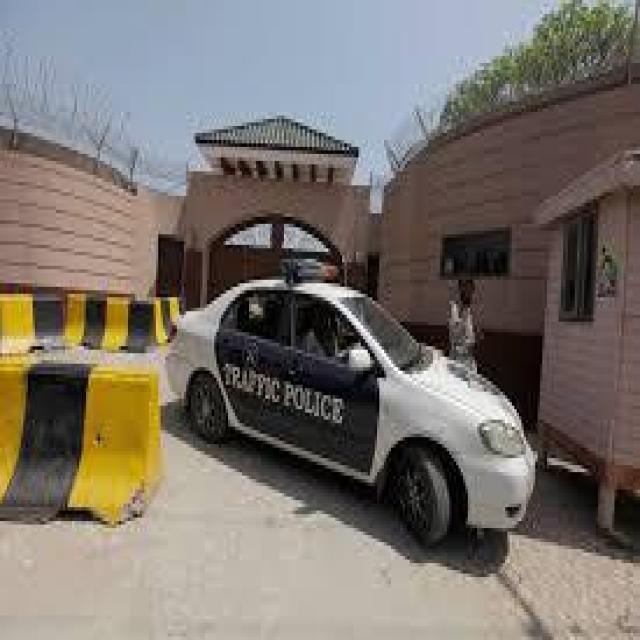fire_truck: (170, 248, 538, 553)
